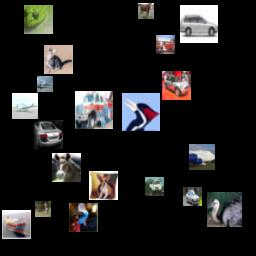airplane: (12, 93, 38, 119), (189, 144, 215, 170), (37, 76, 53, 92)
automobile: (180, 5, 218, 43), (34, 120, 63, 149), (162, 71, 191, 100), (183, 187, 202, 206)
bird: (122, 93, 160, 131), (207, 192, 242, 227), (69, 203, 98, 232)
cat: (44, 45, 73, 74)
deer: (35, 201, 51, 217)
dog: (89, 171, 118, 200)
frog: (24, 5, 53, 34)
ship: (2, 210, 31, 239)
truck: (75, 91, 113, 129), (156, 35, 175, 54), (145, 177, 164, 196)
